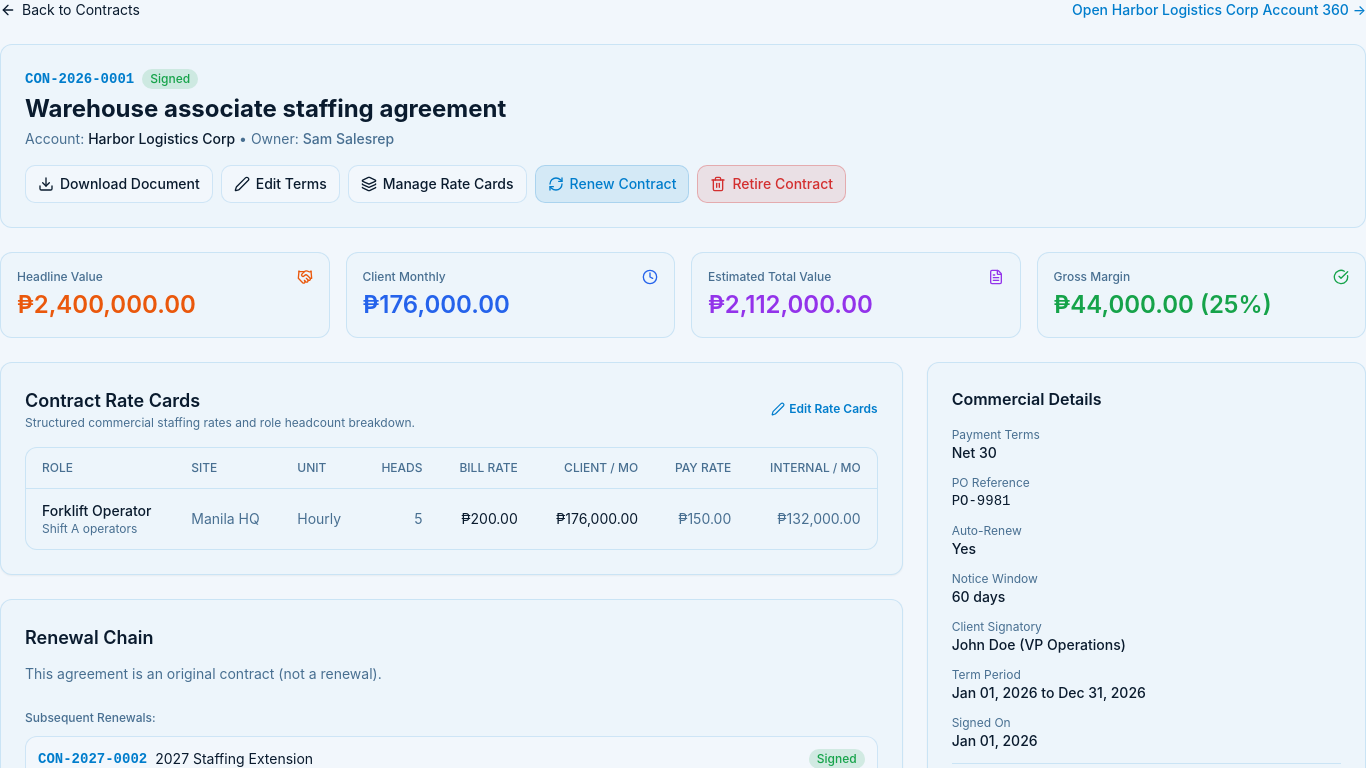
Scenario: Contract Detail (/contracts/:id) › allows manager to open and edit rate cards modal
The width and height of the screenshot is (1366, 768).
Expected: the heading "Warehouse associate staffing agreement" is shown, [25, 93, 506, 125]
What coordinates should you click on to do the following:
click the button "Manage Rate Cards"
I would click on:
 (437, 184)
Its box is [348, 165, 526, 203].
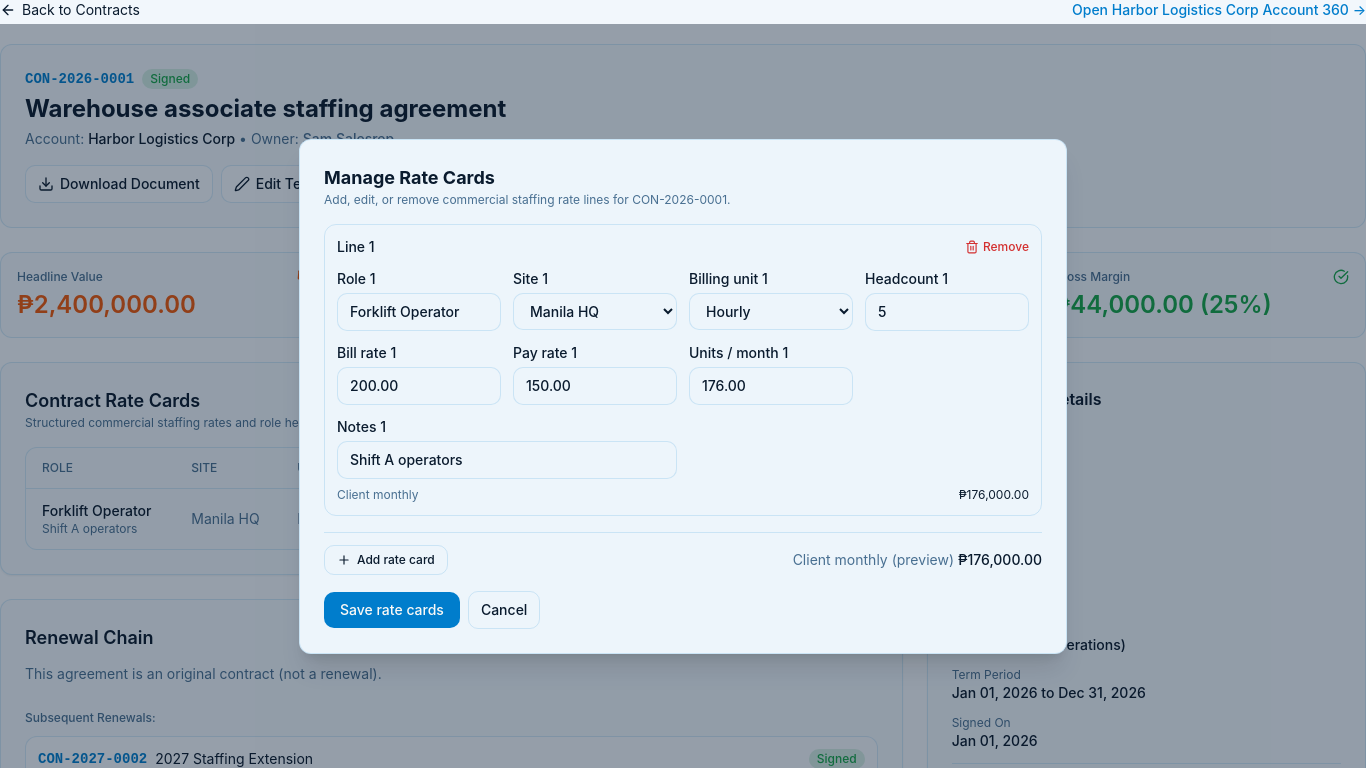
Now the text "Add, edit, or remove commercial staffing rate lines for CON-2026-0001." is shown, box [324, 192, 730, 206]
